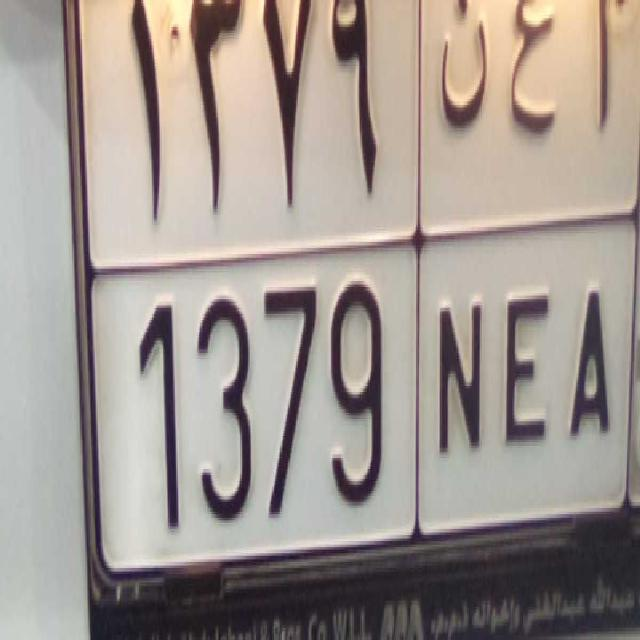license_plate: (110, 226, 633, 552)
